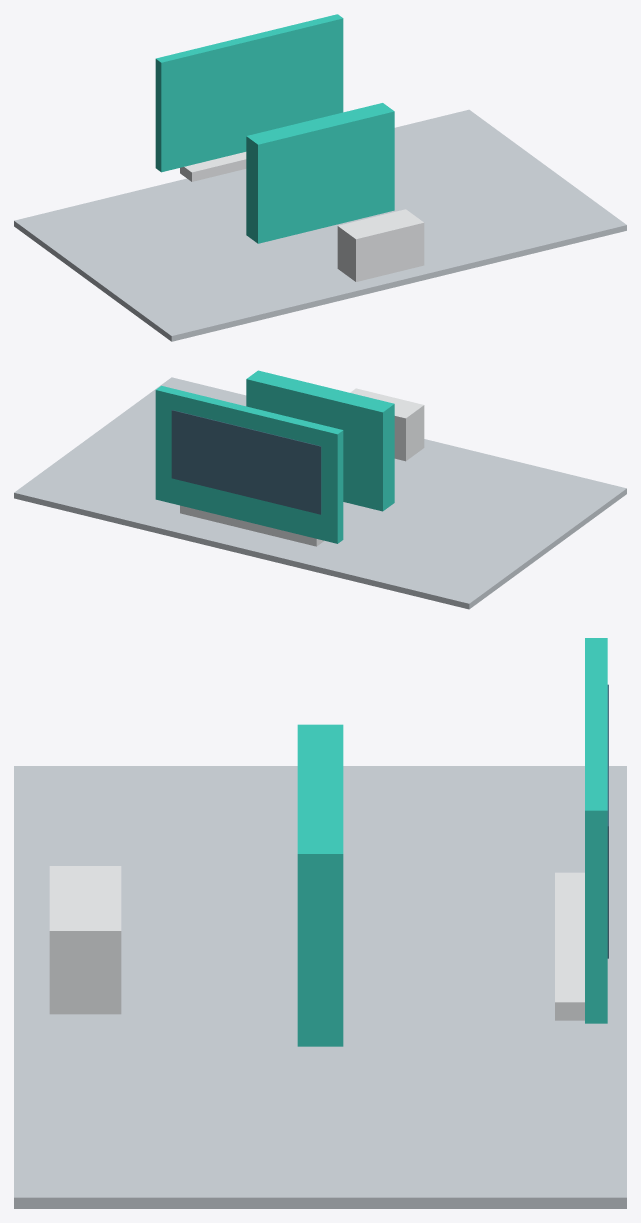
3 renders of one model, top to bottom at view 1: azimuth 30°, elevation 25°; view 2: azimuth 150°, elevation 25°; view 3: azimuth 270°, elevation 25°, orthographic. The views are drawn at different scales.
Visible parts, largest first — view 1: Exhibition Booth Concept; view 2: Exhibition Booth Concept; view 3: Exhibition Booth Concept.
Part boxes in pixels (x1=…): Exhibition Booth Concept: x1=14, y1=14, x2=626, y2=341; Exhibition Booth Concept: x1=14, y1=370, x2=626, y2=609; Exhibition Booth Concept: x1=14, y1=638, x2=626, y2=1208.
Size of the model in its own units: 10 by 2.9 by 6.
